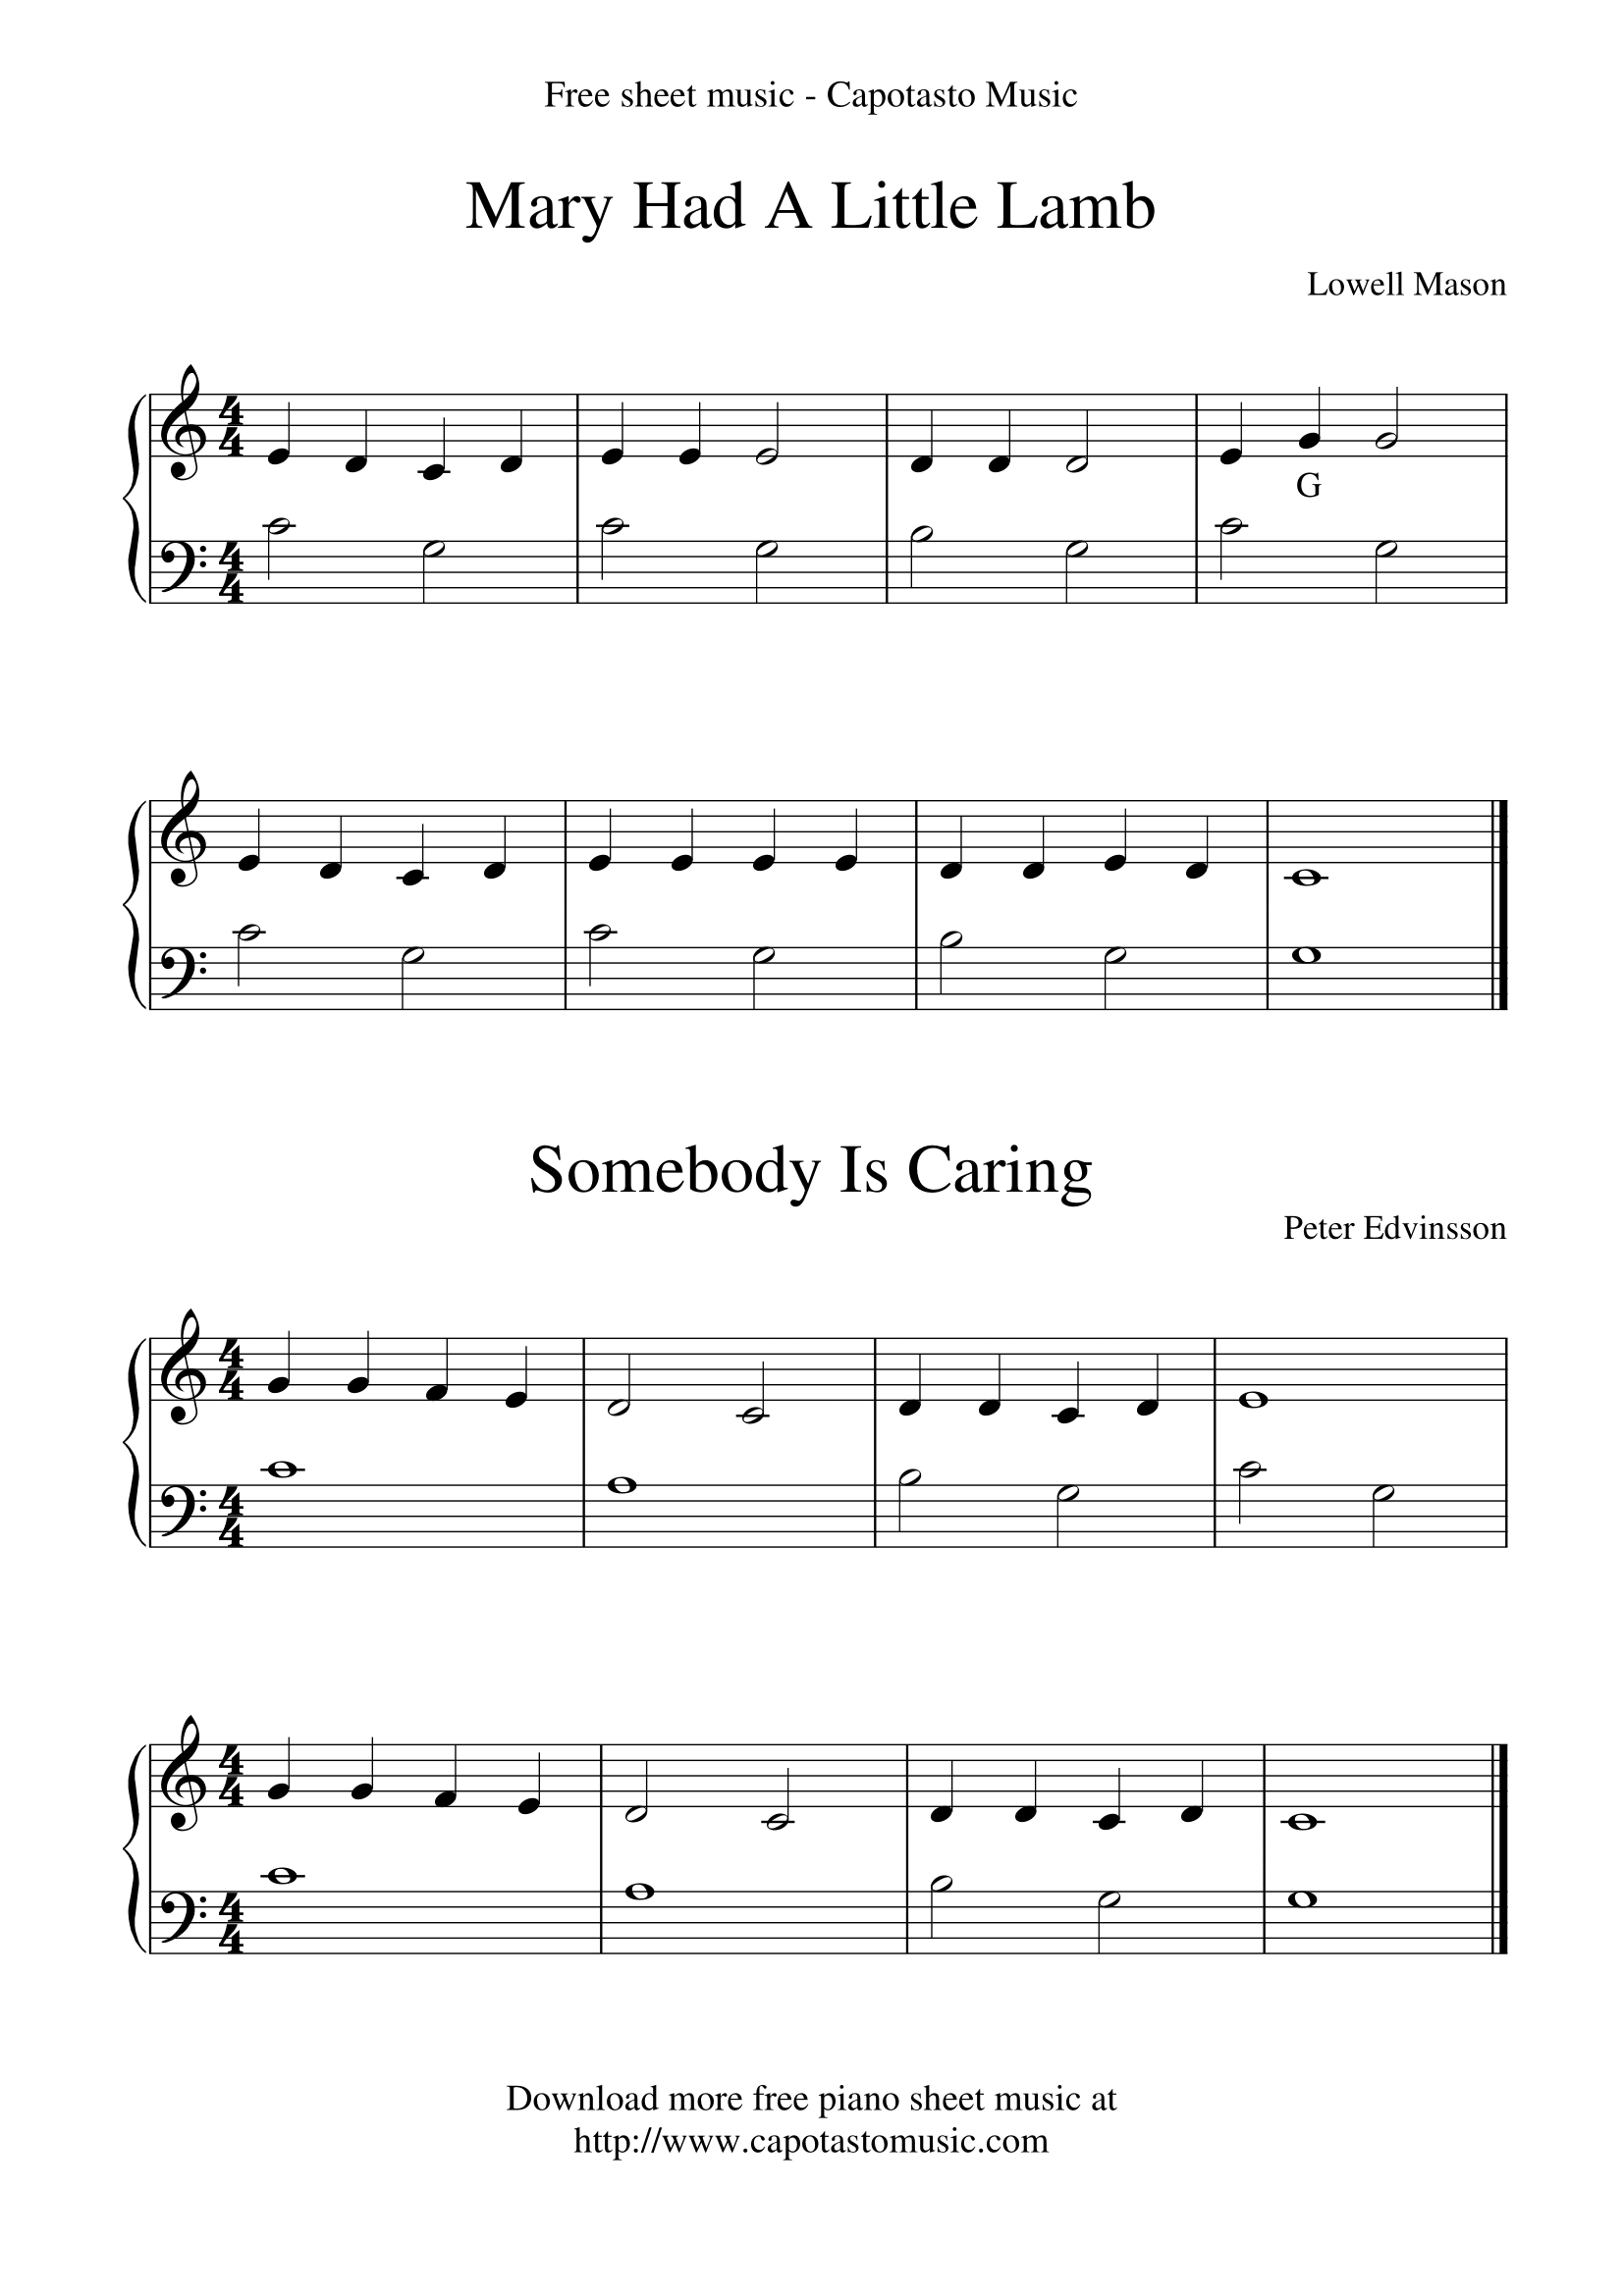half: (741, 395, 803, 491), (732, 1332, 787, 1441), (732, 927, 796, 1020), (1059, 393, 1112, 504), (622, 1748, 676, 1850), (1087, 927, 1151, 1013), (1208, 509, 1261, 611), (1226, 1450, 1273, 1557), (595, 1336, 646, 1429), (922, 1868, 973, 1957), (1352, 1474, 1407, 1557), (738, 520, 789, 607), (768, 1745, 811, 1847), (386, 934, 437, 1020), (1356, 528, 1407, 611), (891, 1453, 934, 1548), (578, 913, 622, 1004), (590, 520, 634, 607), (227, 918, 265, 1013), (926, 925, 963, 1023), (901, 523, 945, 602), (1080, 1887, 1138, 1947), (1052, 537, 1096, 614), (260, 520, 299, 604), (1379, 383, 1410, 476), (415, 535, 451, 602), (1052, 1474, 1084, 1548)
quarter: (824, 800, 878, 915), (978, 393, 1029, 509), (1052, 1339, 1103, 1453), (397, 792, 444, 913), (1131, 1339, 1179, 1460), (1179, 1741, 1230, 1852), (413, 393, 462, 507), (1179, 788, 1223, 913), (919, 1745, 973, 1843), (580, 795, 638, 886), (1087, 1748, 1138, 1850), (666, 800, 713, 902), (335, 395, 385, 491), (903, 393, 950, 493), (594, 390, 643, 484), (891, 1332, 938, 1431), (1008, 1741, 1056, 1840), (1289, 386, 1340, 477), (741, 795, 787, 897), (255, 393, 307, 481), (318, 800, 362, 906), (476, 800, 523, 893), (516, 1745, 564, 1836), (501, 1332, 545, 1431), (1096, 795, 1138, 897), (256, 1331, 307, 1415), (1021, 795, 1059, 906), (929, 799, 973, 893), (977, 1332, 1013, 1445), (492, 395, 532, 497), (418, 1336, 469, 1415), (256, 1736, 307, 1813), (346, 1736, 397, 1813), (671, 393, 710, 493), (232, 804, 272, 890), (1214, 395, 1252, 484), (346, 1339, 381, 1415), (437, 1738, 467, 1819)
whole: (255, 1859, 320, 1962), (1270, 1741, 1330, 1850), (260, 1453, 314, 1548), (1280, 799, 1328, 899), (618, 1871, 671, 1957), (1226, 1336, 1273, 1429), (1284, 937, 1337, 1016), (1277, 1875, 1328, 1950), (606, 1462, 646, 1545)
